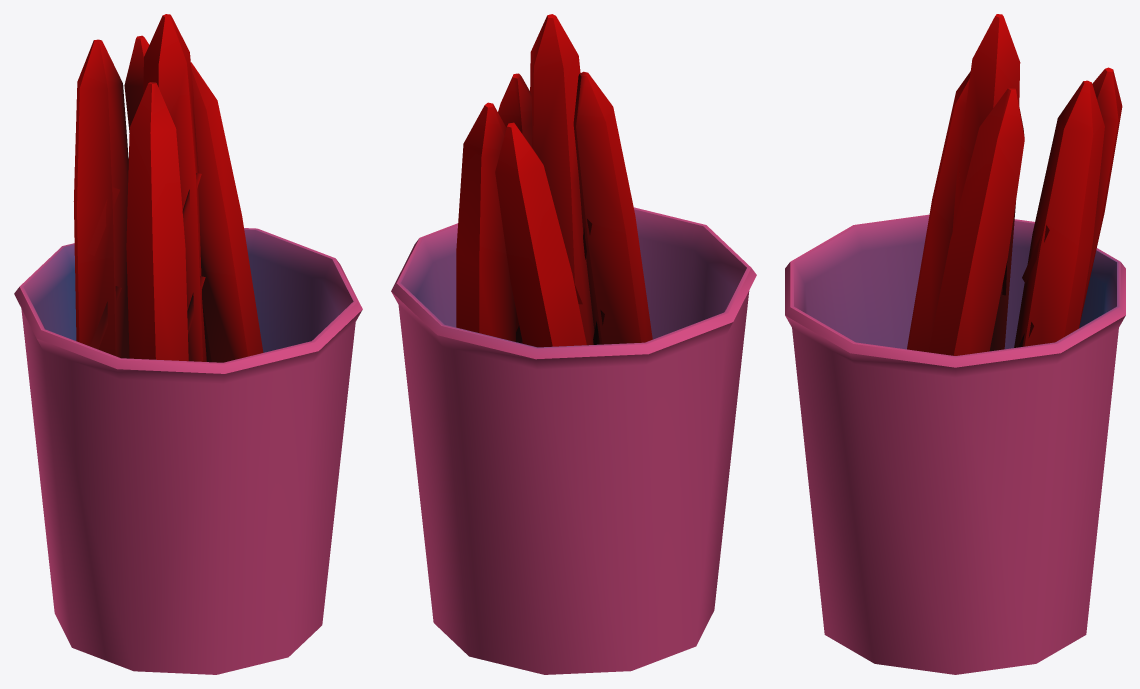
File: CI_Bakery_Baguette_Basket.glb
3 renders of one model, left to right at view 1: azimuth 30°, elevation 25°; view 2: azimuth 150°, elevation 25°; view 3: azimuth 270°, elevation 25°, orthographic. The views are drawn at different scales.
Parts seen in each view (by area): view 1: CI_Bakery_Baguette_Basket; view 2: CI_Bakery_Baguette_Basket; view 3: CI_Bakery_Baguette_Basket.
Part boxes in pixels (x1,y1,x2,y2): CI_Bakery_Baguette_Basket: (14, 14, 362, 674); CI_Bakery_Baguette_Basket: (391, 14, 756, 674); CI_Bakery_Baguette_Basket: (785, 14, 1125, 674).
Size of the model in its own units: 0.3128 by 0.5789 by 0.2975.
